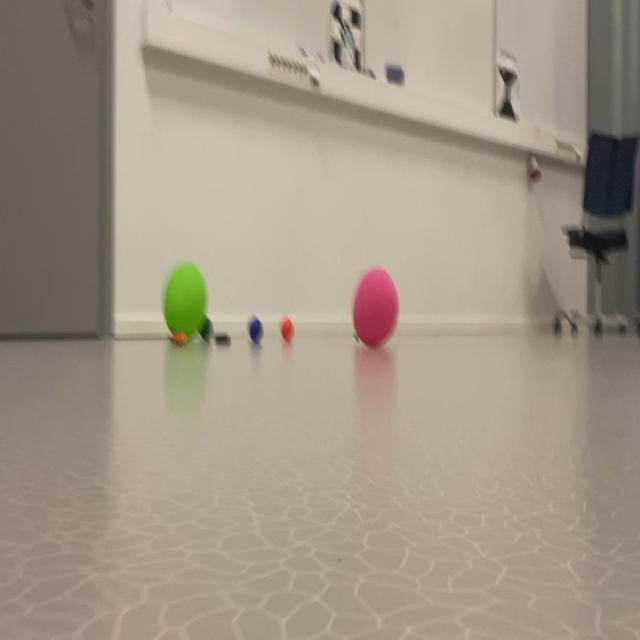7: (277, 304, 297, 358)
green ball: (240, 311, 268, 356)
red ball: (198, 314, 215, 346)
